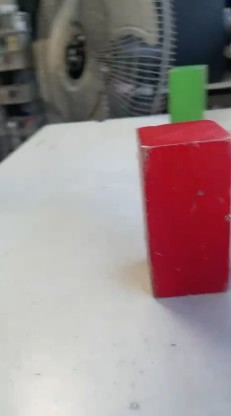red: (122, 123, 224, 285)
